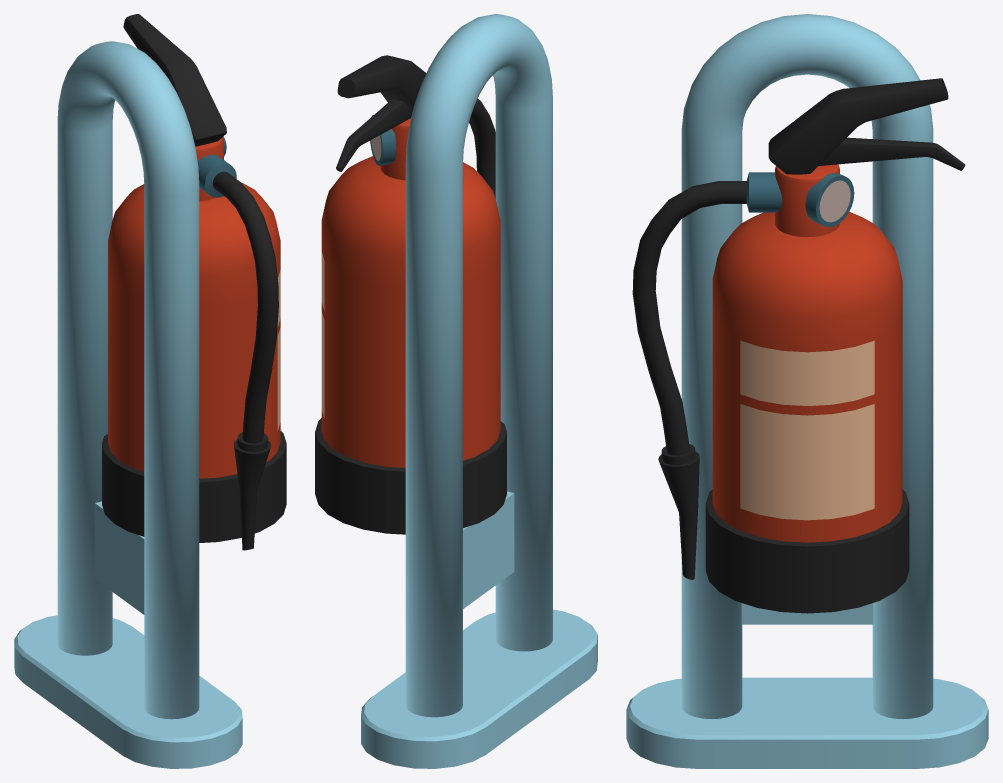
File: airport-fire-extinguisher.glb
The picture shows the model from 3 angles, left to right: view 1: azimuth 30°, elevation 25°; view 2: azimuth 150°, elevation 25°; view 3: azimuth 270°, elevation 25°; orthographic projection. The views are drawn at different scales.
Visible parts, largest first — view 1: 17.6.Model_AIRPORT_0; view 2: 17.6.Model_AIRPORT_0; view 3: 17.6.Model_AIRPORT_0.
Boxes of the visible parts, bbox=[...] form: 17.6.Model_AIRPORT_0: bbox=[14, 14, 286, 768]; 17.6.Model_AIRPORT_0: bbox=[315, 14, 597, 768]; 17.6.Model_AIRPORT_0: bbox=[626, 14, 988, 768].
Size of the model in its own units: 0.2631 by 0.8158 by 0.3707.
1 material, 1 textured.
